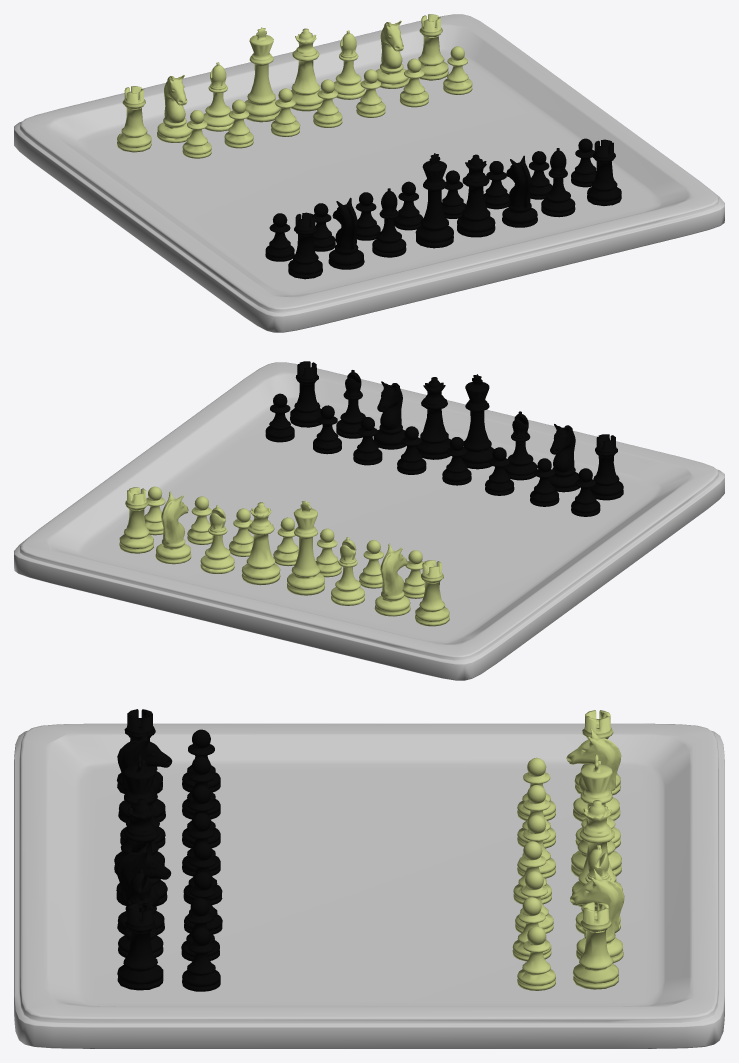
File: Chess01.obj
3 views of the same model, one above another, from view 1: azimuth 30°, elevation 25°; view 2: azimuth 150°, elevation 25°; view 3: azimuth 270°, elevation 25° (orthographic). The views are drawn at different scales.
Visible parts, largest first — view 1: Cube, 6, 6.001, 5, 5.001, 3, 3.002, 3.001, 2, 3.003, 2.003, 2.002 (+20 smaller); view 2: Cube, 6.001, 6, 5.001, 5, 3.001, 3.003, 3.002, 2.001, 2.002, 3, 2 (+20 smaller); view 3: Cube, 2.003, 2.001, 3.003, 3.002, 3.001, 6.001, 3, 5, 1.001, 1.015, 5.001 (+18 smaller).
Part boxes in pixels (left/top/right/bottom): Cube: left=14, top=14, right=724, bottom=332; 6: left=415, top=153, right=453, bottom=248; 6.001: left=244, top=27, right=280, bottom=122; 5: left=457, top=154, right=495, bottom=237; 5.001: left=290, top=28, right=323, bottom=111; 3: left=328, top=197, right=364, bottom=269; 3.002: left=502, top=155, right=537, bottom=227; 3.001: left=157, top=75, right=192, bottom=142; 2: left=288, top=212, right=322, bottom=279; 3.003: left=376, top=20, right=409, bottom=88; 2.003: left=587, top=139, right=621, bottom=205; 2.002: left=117, top=86, right=151, bottom=152; Cube: left=14, top=362, right=724, bottom=680; 6.001: left=287, top=500, right=324, bottom=595; 6: left=461, top=374, right=494, bottom=469; 5.001: left=241, top=502, right=280, bottom=585; 5: left=416, top=377, right=450, bottom=459; 3.001: left=374, top=543, right=410, bottom=616; 3.003: left=155, top=491, right=191, bottom=564; 3.002: left=373, top=381, right=406, bottom=449; 2.001: left=119, top=487, right=153, bottom=553; 2.002: left=415, top=560, right=449, bottom=626; 3: left=549, top=424, right=579, bottom=492; 2: left=590, top=434, right=623, bottom=500; Cube: left=14, top=723, right=724, bottom=1048; 2.003: left=117, top=902, right=163, bottom=990; 2.001: left=573, top=901, right=618, bottom=989; 3.003: left=570, top=869, right=624, bottom=963; 3.002: left=116, top=842, right=171, bottom=934; 3.001: left=566, top=728, right=621, bottom=821; 6.001: left=571, top=754, right=621, bottom=877; 3: left=117, top=730, right=172, bottom=822; 5: left=116, top=798, right=167, bottom=906; 1.001: left=517, top=926, right=555, bottom=990; 1.015: left=182, top=927, right=220, bottom=991; 5.001: left=572, top=800, right=622, bottom=906.
Size of the model in its own units: 10.52 by 2.13 by 10.52.
